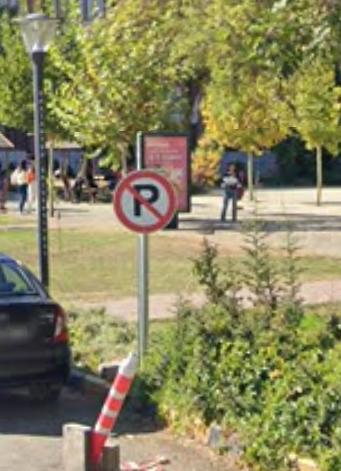nopark: (112, 169, 179, 234)
